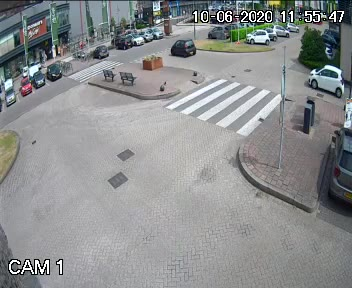car: (300, 59, 342, 99), (166, 36, 192, 58)
